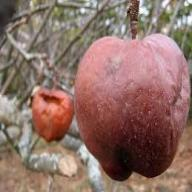apple: (76, 36, 189, 180), (26, 86, 72, 144)
